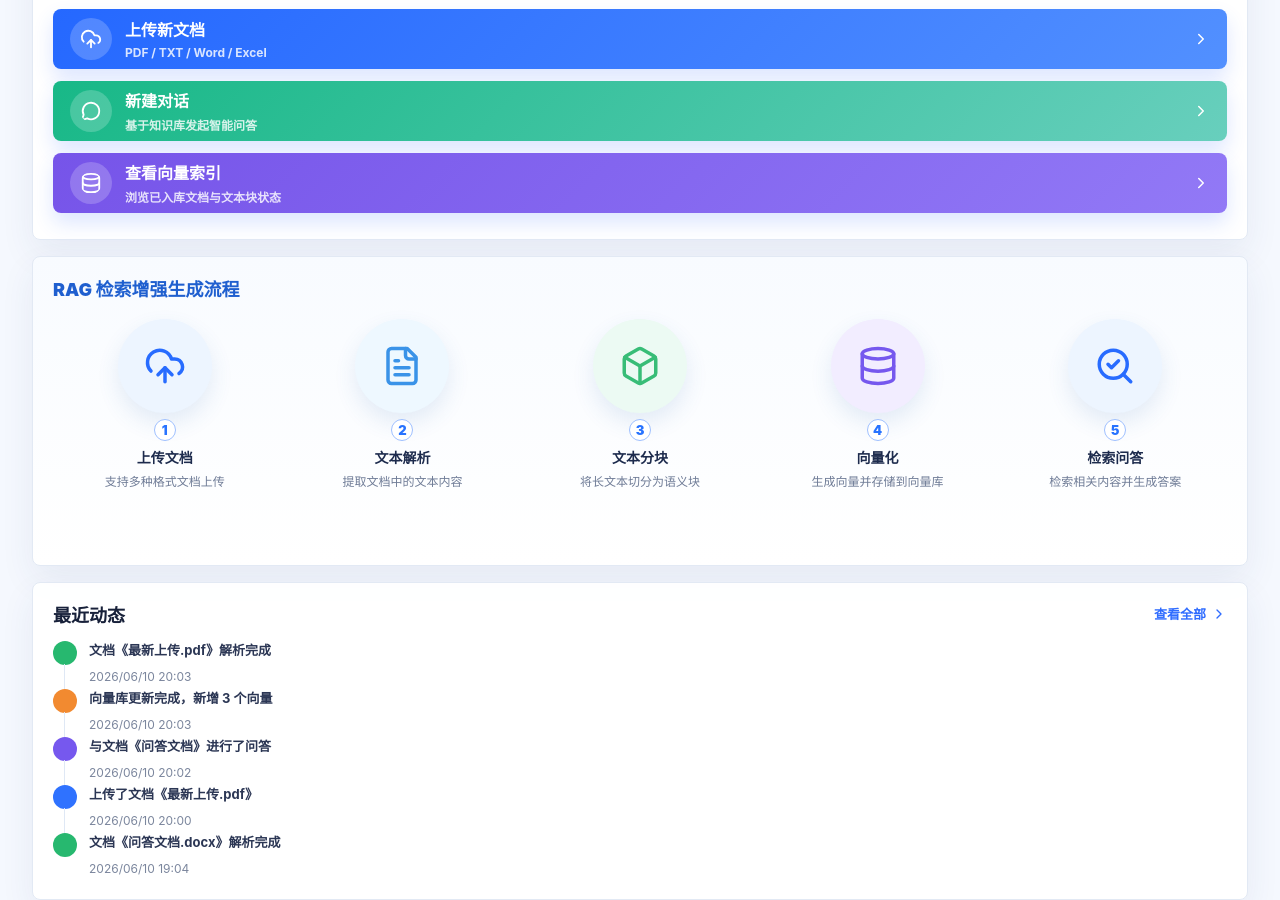
Scenario: DashboardPage › does not duplicate upload activities already persisted by the backend
(page scrolled)
Expected: the element "最近动态" is shown, [32,582,1248,899]
Click the button "查看全部" at (1190, 614), box [1154,604,1227,623]
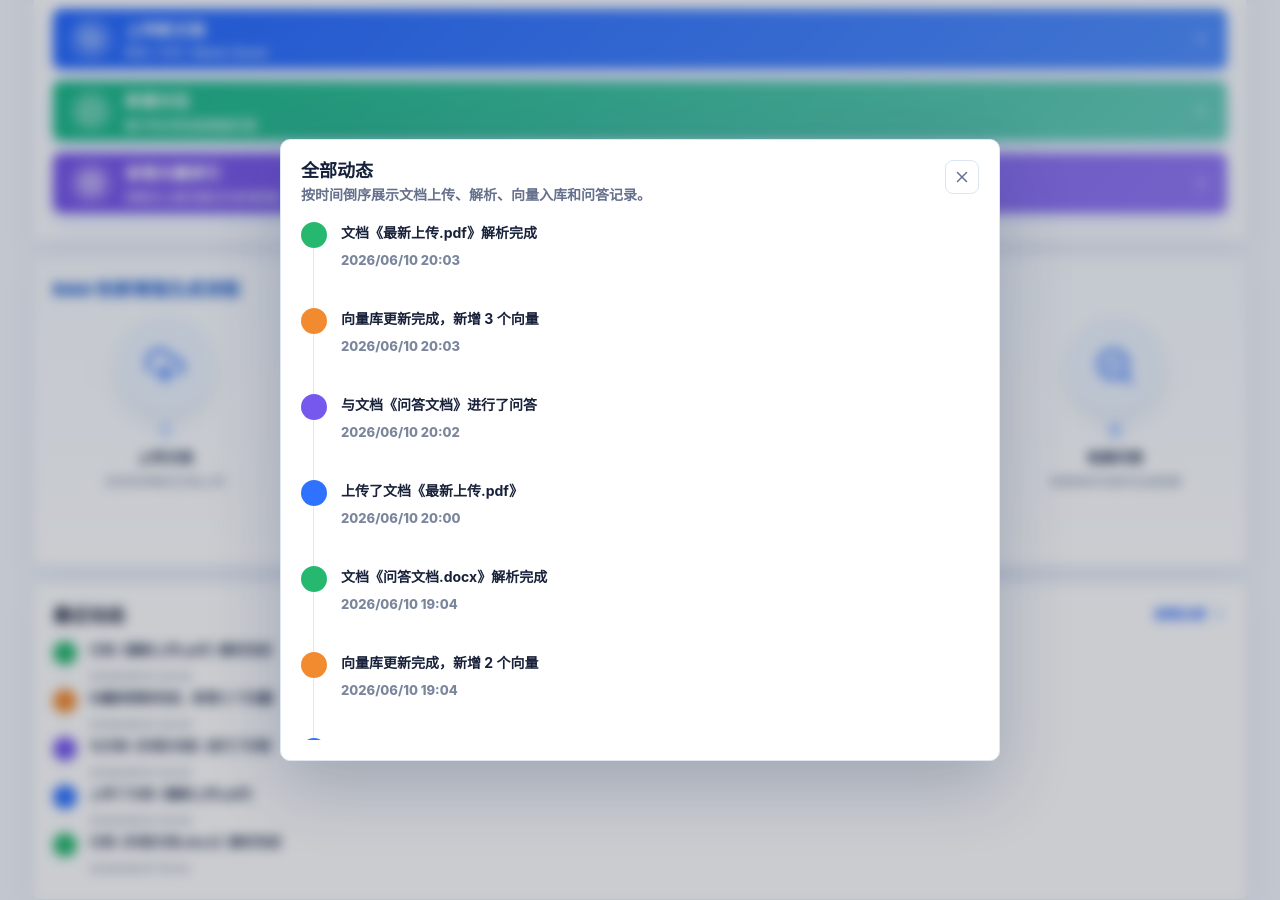
Now the text "上传了文档《最新上传.pdf》" is shown once, box [341,482,523,499]
